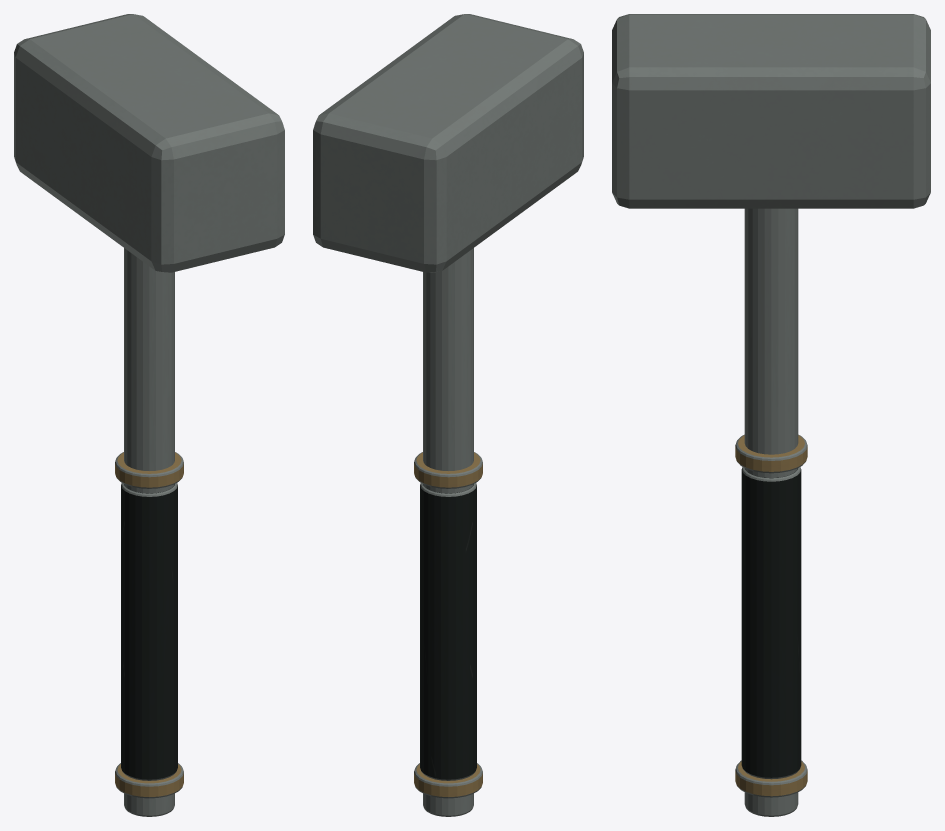
The model's file is hammer-t1.glb.
3 renders of one model, left to right at view 1: azimuth 30°, elevation 25°; view 2: azimuth 150°, elevation 25°; view 3: azimuth 270°, elevation 25°, orthographic. The views are drawn at different scales.
Visible parts, largest first — view 1: Plain forged hammer, Continuous two-hand wrap, Steel shaft, Grip ferrule.001, Grip ferrule; view 2: Plain forged hammer, Continuous two-hand wrap, Steel shaft, Grip ferrule.001, Grip ferrule; view 3: Plain forged hammer, Continuous two-hand wrap, Steel shaft, Grip ferrule.001, Grip ferrule.
Part boxes in pixels (x1,y1,x2,y2): Plain forged hammer: (14,14,284,272); Continuous two-hand wrap: (121,483,177,780); Steel shaft: (124,248,174,816); Grip ferrule.001: (115,452,183,488); Grip ferrule: (115,763,183,798); Plain forged hammer: (313,14,583,272); Continuous two-hand wrap: (420,483,476,780); Steel shaft: (423,248,473,816); Grip ferrule.001: (414,452,482,488); Grip ferrule: (414,763,482,798); Plain forged hammer: (612,14,930,208); Continuous two-hand wrap: (741,467,801,779); Steel shaft: (744,208,798,816); Grip ferrule.001: (735,434,807,473); Grip ferrule: (735,760,807,797).
Bounding box in the file's own units: 0.37 × 1.96 × 0.74.
Materials: 3 (3 with a texture image).
